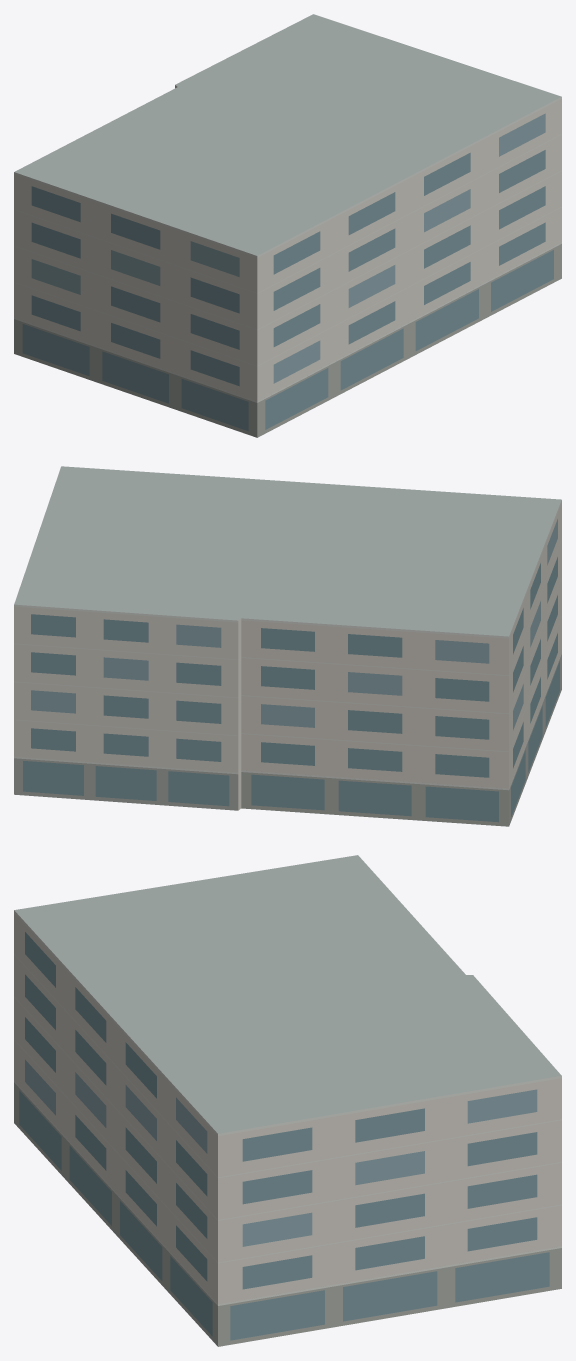
The model's file is survey-upis-32769750.glb.
The picture shows the model from 3 angles, top to bottom: view 1: azimuth 30°, elevation 25°; view 2: azimuth 150°, elevation 25°; view 3: azimuth 270°, elevation 25°; orthographic projection. The views are drawn at different scales.
Visible parts, largest first — view 1: survey-upis-32769750.tmp; view 2: survey-upis-32769750.tmp; view 3: survey-upis-32769750.tmp.
Boxes of the visible parts, <box> form: survey-upis-32769750.tmp: <box>14,14,561,437</box>; survey-upis-32769750.tmp: <box>14,466,561,826</box>; survey-upis-32769750.tmp: <box>14,855,561,1346</box>.
Size of the model in its own units: 65.04 by 23.15 by 53.99.
